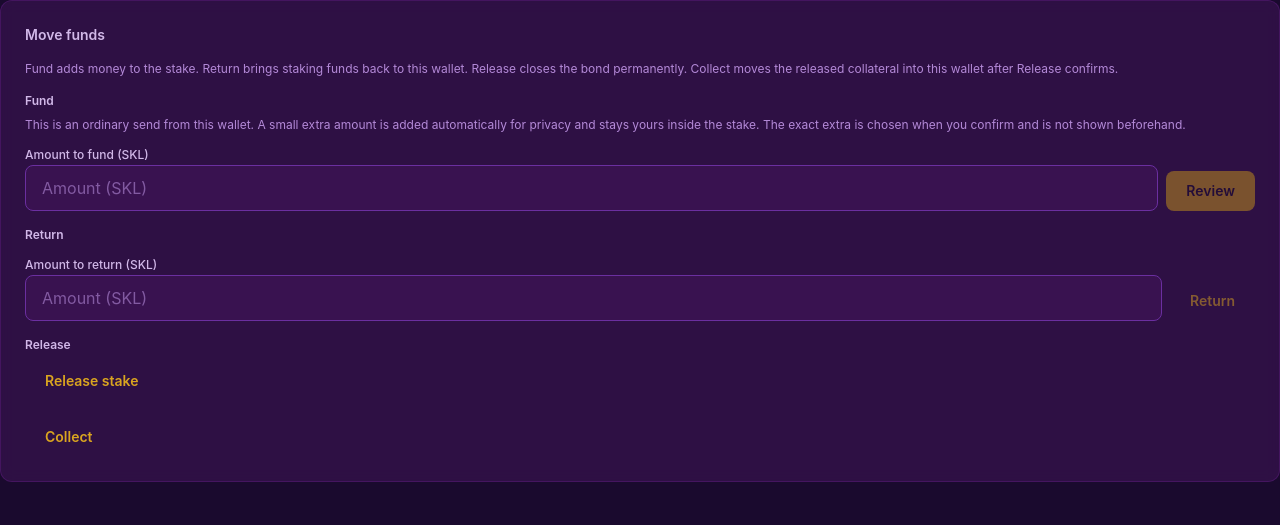
Scenario: StakeActions fund reservation › stays on review when cancel cannot release the reservation
In the field with placeholder "Amount (SKL)": (592,188) [25,165,1158,211], type "1"
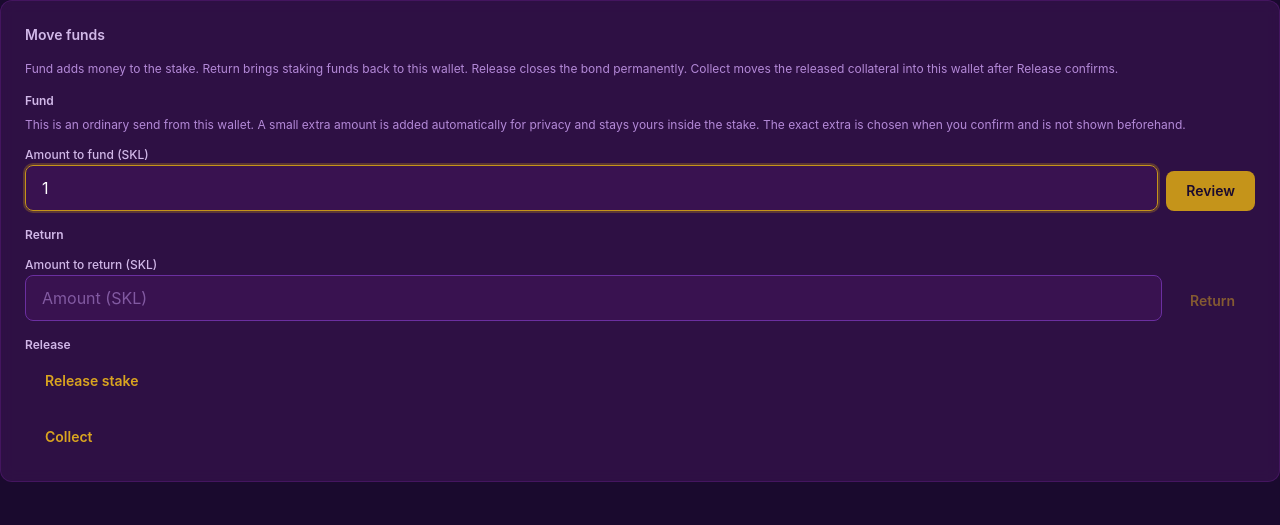
Click the button "Review": (1211,191) [1166,171,1255,211]
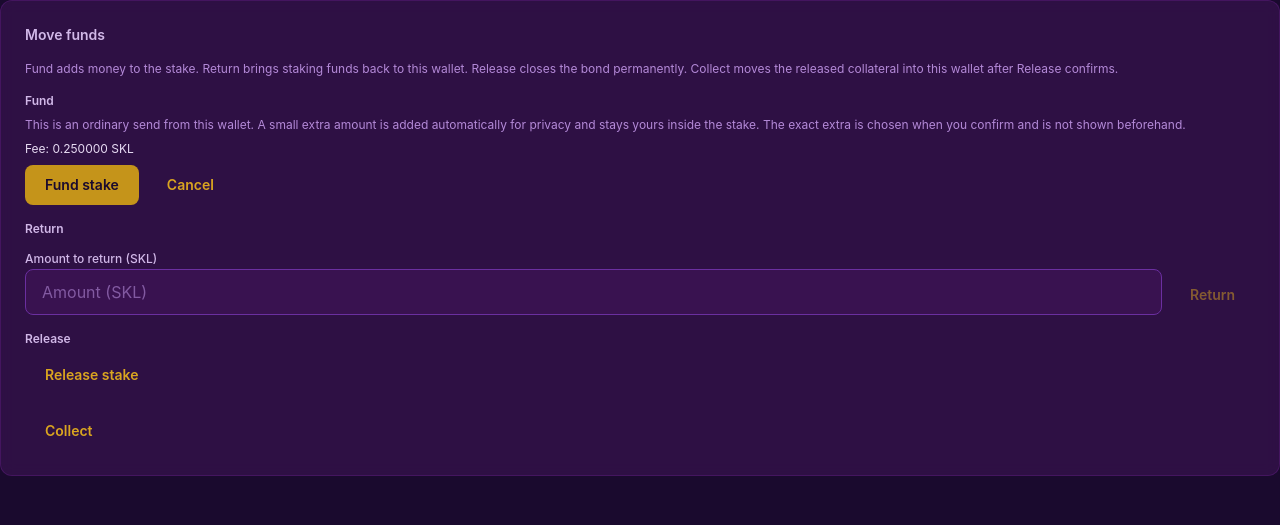
expect the text "Fee: 0.250000 SKL" is shown: met, box [25,141,134,156]
Click the button "Cancel": (190,185) [147,165,234,205]
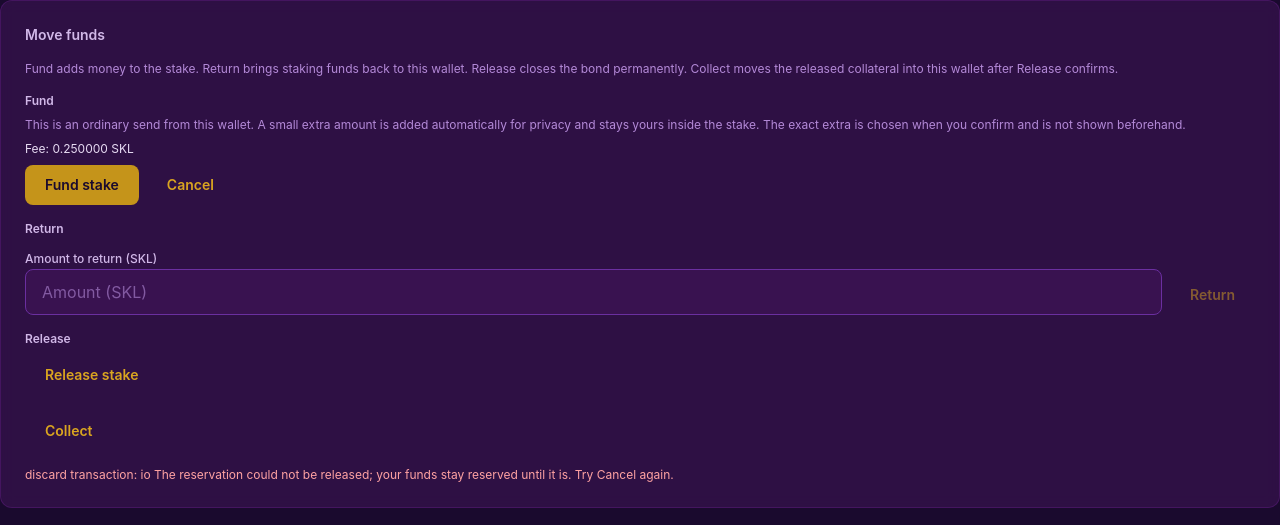
expect the button "Fund stake" is shown: met, box [25,165,139,205]
expect the text "The reservation could not be released; your funds stay reserved until it is. Try Cancel again." is shown: met, box [25,467,674,482]
